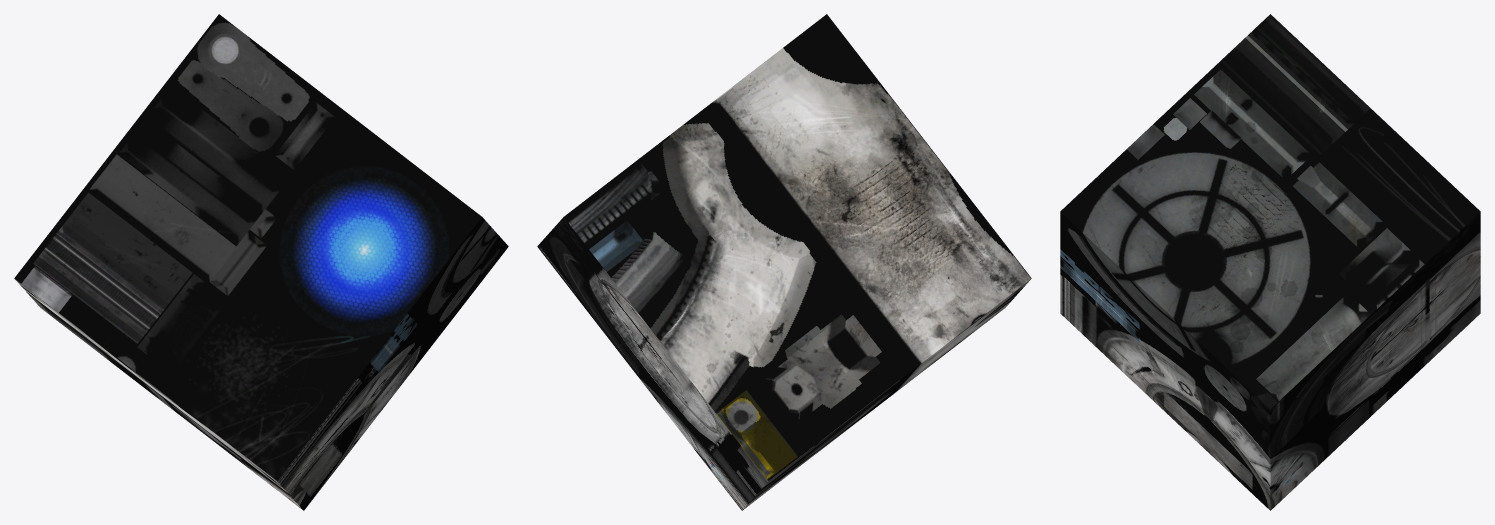
Rendered from simple_subdiv.obj.
3 views of the same model, side by side, from view 1: azimuth 30°, elevation 25°; view 2: azimuth 150°, elevation 25°; view 3: azimuth 270°, elevation 25° (orthographic). The views are drawn at different scales.
Visible parts, largest first — view 1: Plane; view 2: Plane; view 3: Plane.
Boxes of the visible parts, x1,y1,x2,y2 form: Plane: [14, 14, 508, 510]; Plane: [537, 14, 1031, 510]; Plane: [1060, 14, 1480, 510].
Size of the model in its own units: 3.41 by 3.41 by 2.83.
